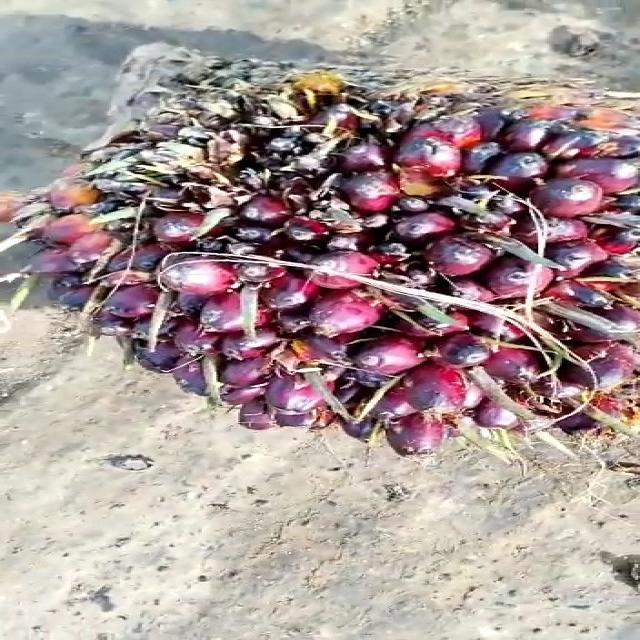palm oil: (2, 38, 640, 465)
